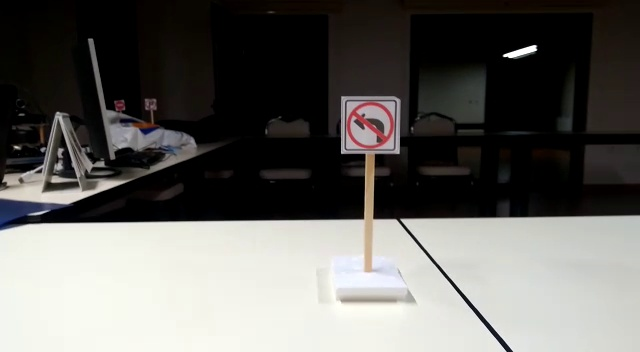sola_donulmez: (340, 97, 400, 151)
